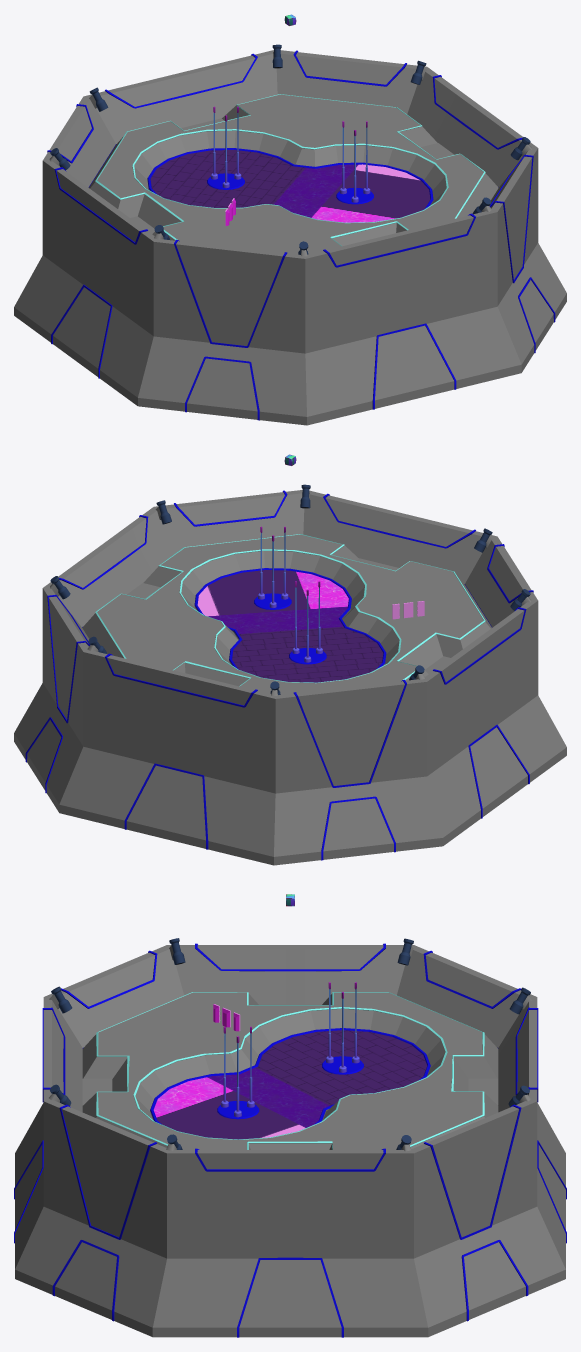
File: New aarena.fbx
3 views of the same model, one above another, from view 1: azimuth 30°, elevation 25°; view 2: azimuth 150°, elevation 25°; view 3: azimuth 270°, elevation 25° (orthographic). The views are drawn at different scales.
Parts seen in each view (by area): view 1: Walls, Glass_roof, tower_base, lamps, antenna1, antenna2, Roof_decoration; view 2: Walls, Glass_roof, tower_base, lamps, Roof_decoration, antenna2, antenna1; view 3: Walls, Glass_roof, tower_base, lamps, antenna2, antenna1, Roof_decoration, obs_box01.
Part boxes in pixels (x1,y1,x2,y2): Walls: (14, 50, 566, 425); Glass_roof: (89, 94, 498, 254); tower_base: (147, 150, 433, 222); lamps: (49, 44, 531, 256); antenna1: (207, 106, 244, 189); antenna2: (336, 121, 373, 204); Roof_decoration: (147, 148, 433, 209); Walls: (14, 490, 566, 865); Glass_roof: (82, 534, 491, 694); tower_base: (194, 570, 386, 682); lamps: (50, 484, 531, 695); Roof_decoration: (194, 568, 386, 669); antenna2: (254, 526, 291, 609); antenna1: (289, 581, 326, 664); Walls: (14, 943, 566, 1337); Glass_roof: (82, 992, 498, 1149); tower_base: (150, 1030, 430, 1139); lamps: (49, 938, 532, 1151); antenna2: (217, 1026, 259, 1119); antenna1: (322, 982, 363, 1074); Roof_decoration: (150, 1028, 430, 1124); obs_box01: (82, 1078, 112, 1105).
Bounding box in the file's own units: 4158 × 2749 × 4158.
